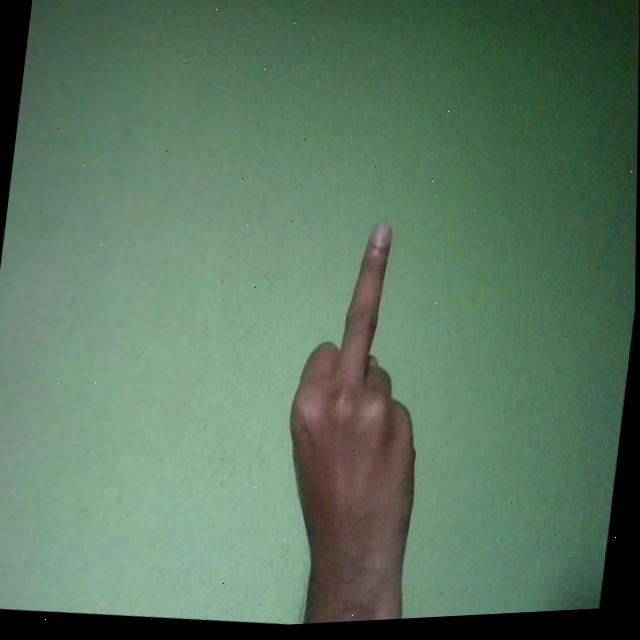Middle Finger: (268, 216, 445, 625)
